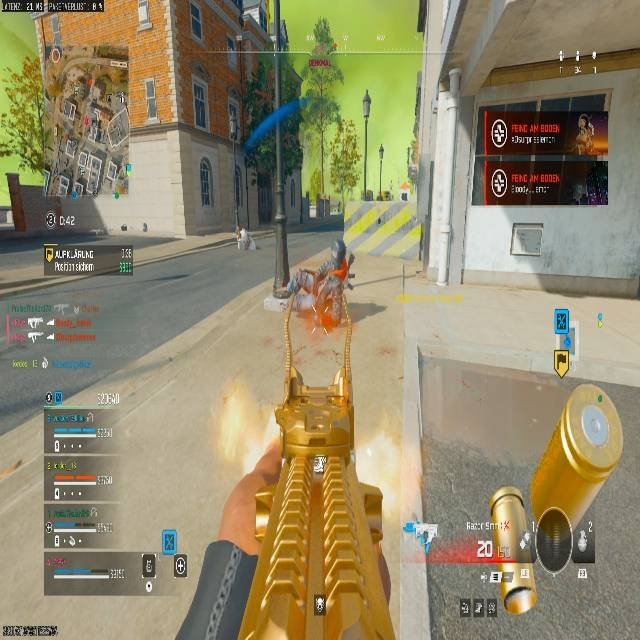head: (331, 240, 346, 257)
